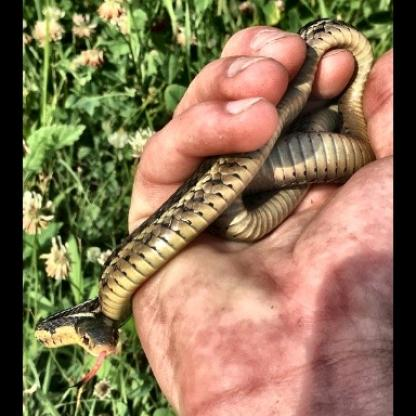Snake: (100, 13, 377, 322), (23, 261, 133, 368)
